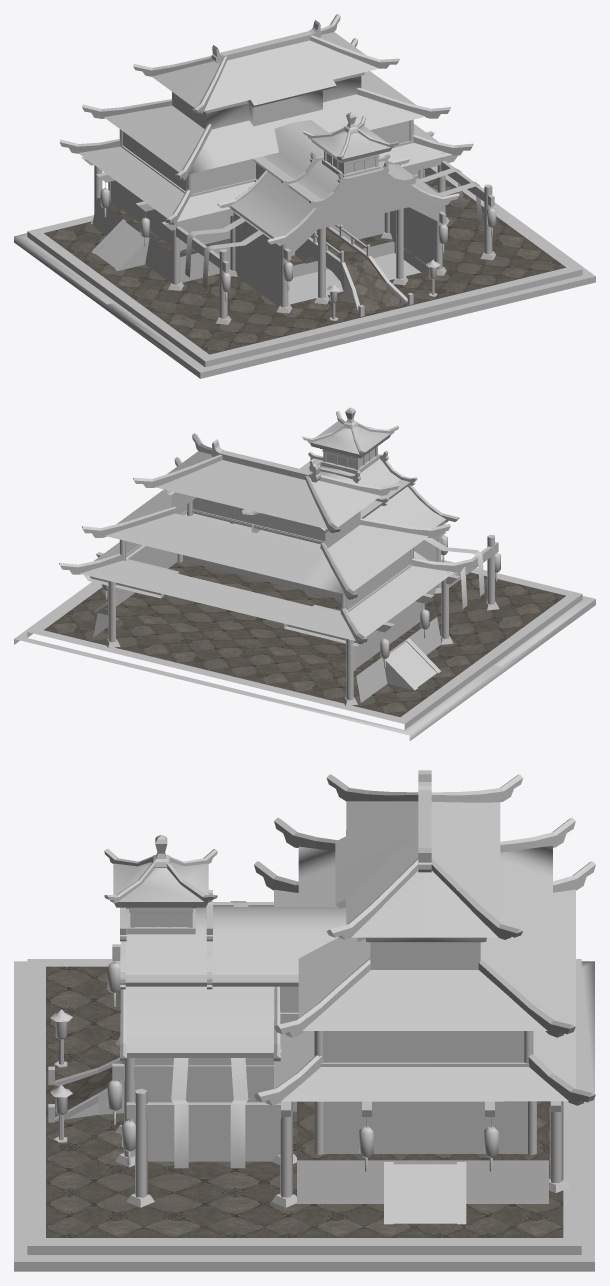
File: s7_3d_jz_waishiyuan.FBX
3 renders of one model, top to bottom at view 1: azimuth 30°, elevation 25°; view 2: azimuth 150°, elevation 25°; view 3: azimuth 270°, elevation 25°, orthographic. The views are drawn at different scales.
Parts seen in each view (by area): view 1: T_s7_3d_jz_shangpu_07, T_s7_3d_jz_shangpu_09; view 2: T_s7_3d_jz_shangpu_07, T_s7_3d_jz_shangpu_09; view 3: T_s7_3d_jz_shangpu_07, T_s7_3d_jz_shangpu_09.
Part boxes in pixels (left/top/right/bottom): T_s7_3d_jz_shangpu_07: left=14, top=14, right=595, bottom=378; T_s7_3d_jz_shangpu_09: left=44, top=167, right=565, bottom=354; T_s7_3d_jz_shangpu_07: left=14, top=407, right=595, bottom=740; T_s7_3d_jz_shangpu_09: left=44, top=561, right=565, bottom=717; T_s7_3d_jz_shangpu_07: left=14, top=770, right=595, bottom=1271; T_s7_3d_jz_shangpu_09: left=46, top=966, right=563, bottom=1237.
Size of the model in its own units: 5144 by 2489 by 4207.
